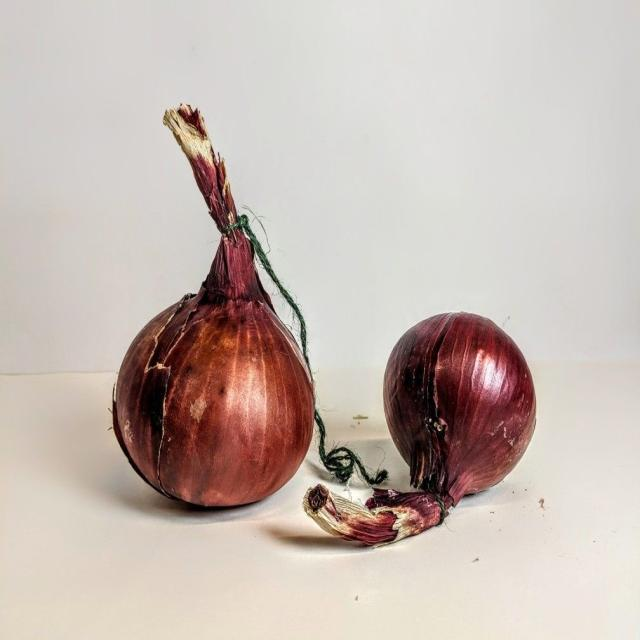rotten: (97, 24, 548, 538)
